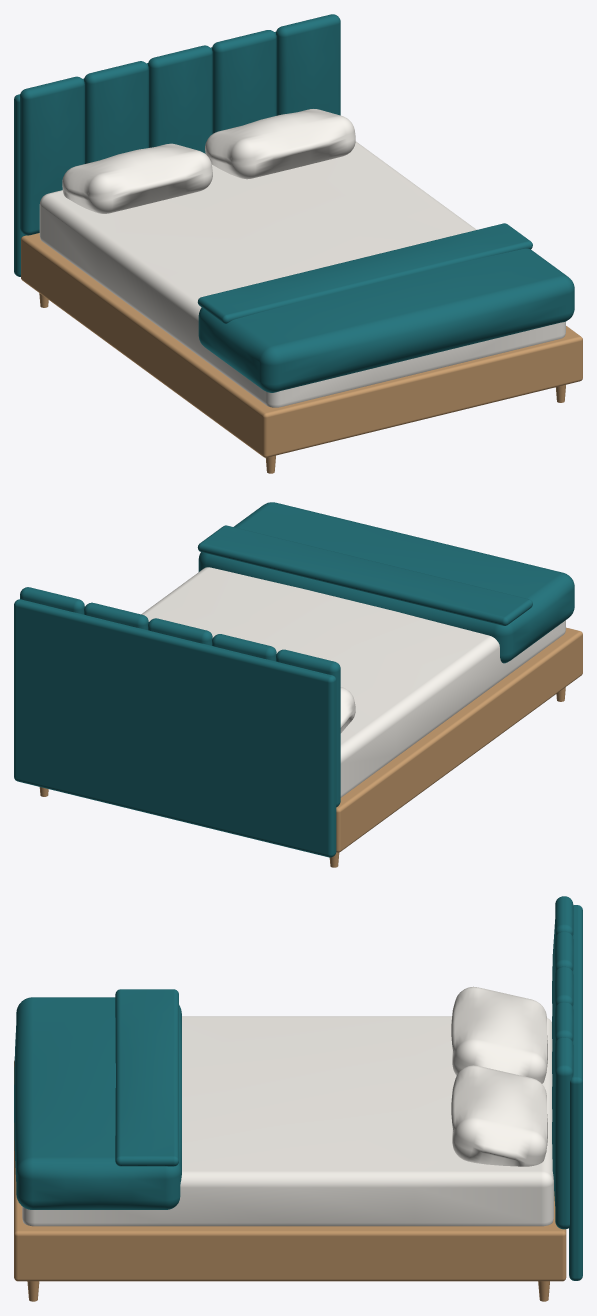
Rendered from bed.glb.
3 renders of one model, top to bottom at view 1: azimuth 30°, elevation 25°; view 2: azimuth 150°, elevation 25°; view 3: azimuth 270°, elevation 25°, orthographic. The views are drawn at different scales.
Parts seen in each view (by area): view 1: bed_white, bed_fabric_soft, bed_fabric, bed_wood; view 2: bed_fabric, bed_white, bed_fabric_soft, bed_wood; view 3: bed_white, bed_fabric_soft, bed_wood, bed_fabric.
Part boxes in pixels (box(x1,y1,x2,y2)): bed_white: box(39, 109, 565, 407); bed_fabric_soft: box(197, 223, 574, 392); bed_fabric: box(14, 14, 340, 276); bed_wood: box(21, 233, 582, 473); bed_fabric: box(14, 587, 340, 857); bed_white: box(141, 567, 565, 797); bed_fabric_soft: box(197, 502, 574, 663); bed_wood: box(39, 627, 582, 867); bed_white: box(22, 986, 553, 1226); bed_fabric_soft: box(14, 989, 181, 1209); bed_wood: box(14, 1060, 566, 1301); bed_fabric: box(552, 896, 582, 1280).
Bounding box in the file's own units: 1.5 × 0.95 × 2.05.
